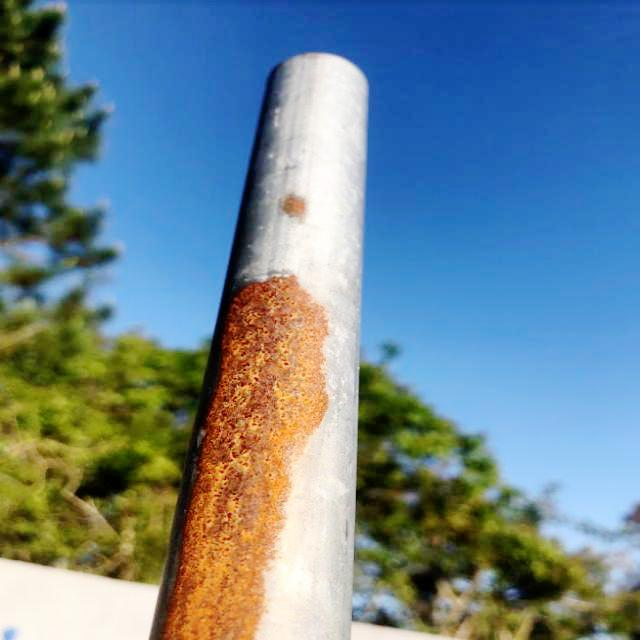Corrosion: (150, 267, 335, 640), (278, 191, 309, 223)
